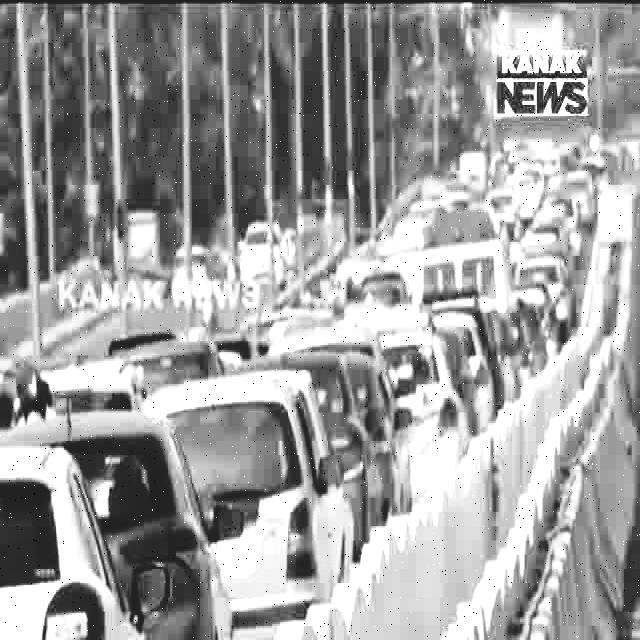Ambulance: (415, 209, 502, 294)
